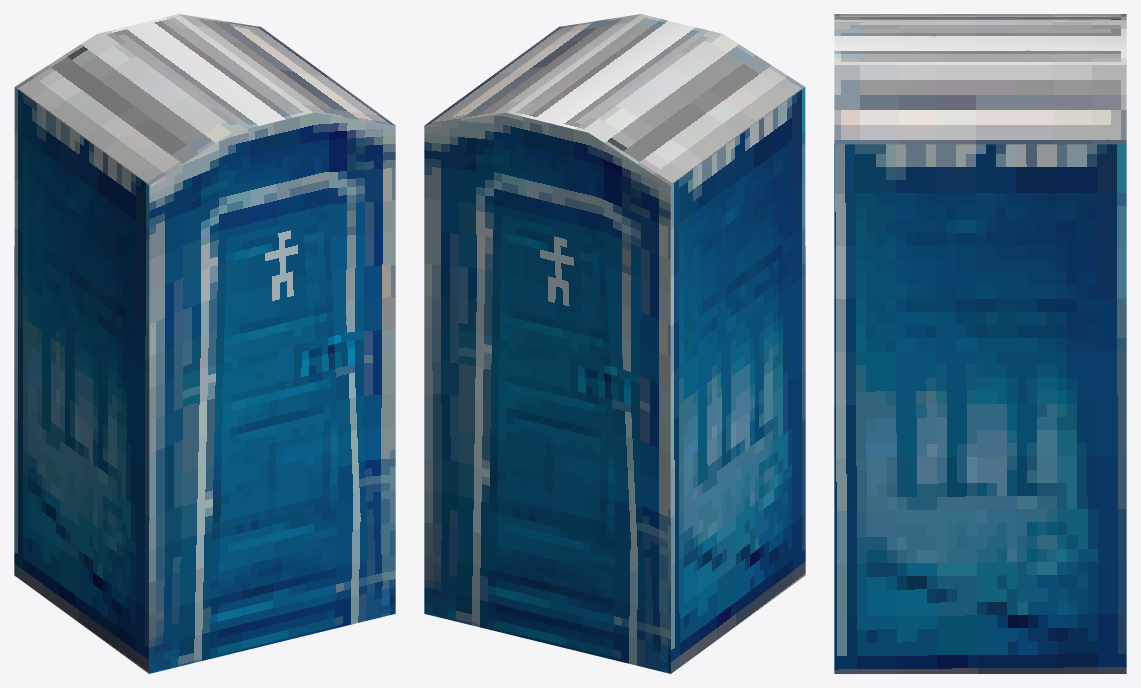
Rendered from Environment - Base Building - Outhouse 01 - pmouthouse01.glb.
The picture shows the model from 3 angles, left to right: view 1: azimuth 30°, elevation 25°; view 2: azimuth 150°, elevation 25°; view 3: azimuth 270°, elevation 25°; orthographic projection. The views are drawn at different scales.
Visible parts, largest first — view 1: PMOUTHOUSE01; view 2: PMOUTHOUSE01; view 3: PMOUTHOUSE01.
Boxes of the visible parts, bbox=[...] form: PMOUTHOUSE01: bbox=[14, 14, 395, 673]; PMOUTHOUSE01: bbox=[424, 14, 805, 673]; PMOUTHOUSE01: bbox=[834, 14, 1126, 673].
Bounding box in the file's own units: 7.48 × 15.1 × 7.08.
Materials: 1 (1 with a texture image).
